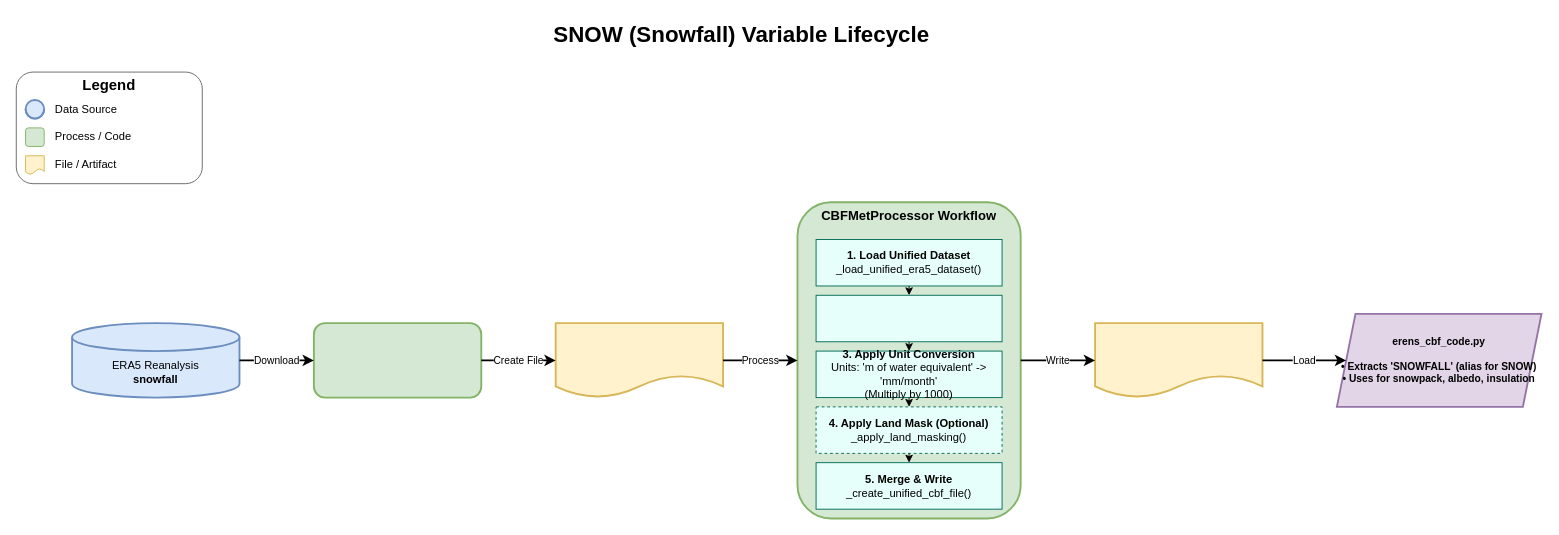
Some shapes in this 1559 by 535 pixel diagram are drawn without their labels. Here are the shapes that lost their labels. From the top down, the box of each, then its label:
(815, 294, 1002, 342): 2. Map Variable 'snowfall' -> 'SNOW'
(312, 322, 482, 398): ecmwf_downloader.py
(554, 322, 724, 398): Downloaded NetCDF File(s) *.nc (contains 'sf' variable)
(1094, 322, 1263, 398): Final CBF Met File AllMet05x05_LFmasked.nc (contains 'SNOW' variable)
